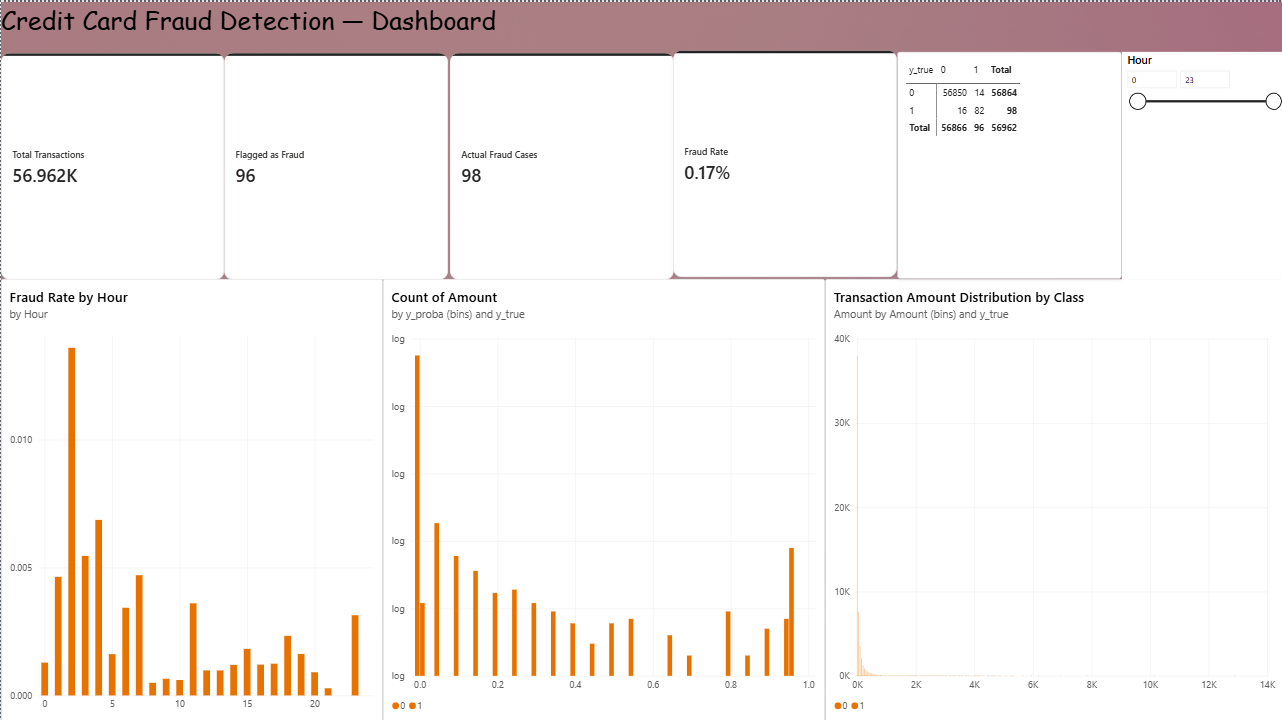

The page's visual inventory and layout, read from the dashboard file:
{"tool":"powerbi","page":{"name":"Page 1","canvas":[1920,1080],"ordinal":0},"visuals":[{"type":"cardVisual","fields":{"Data":["CountNonNull(scored_transactions.Amount)"]},"box":[0,76.6,334.7,339.1],"z":0},{"type":"cardVisual","fields":{"Data":["Sum(scored_transactions.y_pred)"]},"box":[333.8,76.6,335,339],"z":1000},{"type":"cardVisual","fields":{"Data":["Sum(scored_transactions.y_true)"]},"box":[671.4,76.6,335,339],"z":2000},{"type":"cardVisual","fields":{"Data":["scored_transactions.Fraud Rate"]},"box":[1005.2,72.6,335,339],"z":3000},{"type":"clusteredColumnChart","fields":{"Category":["scored_transactions.Hour"],"Y":["scored_transactions.Fraud Rate by Hour"]},"box":[0,414.3,571.3,665.6],"z":4000},{"type":"clusteredColumnChart","title":"Transaction Amount Distribution by Class","fields":{"Category":["scored_transactions.Amount (bins)"],"Series":["scored_transactions.y_true"],"Y":["CountNonNull(scored_transactions.Amount)"]},"box":[1233,414.3,687.2,665.6],"z":5000},{"type":"pivotTable","fields":{"Columns":["scored_transactions.y_pred"],"Rows":["scored_transactions.y_true"],"Values":["CountNonNull(scored_transactions.Amount)"]},"box":[1340.9,74.6,335,339],"z":6000},{"type":"clusteredColumnChart","fields":{"Category":["scored_transactions.y_proba (bins)"],"Series":["scored_transactions.y_true"],"Y":["CountNonNull(scored_transactions.Amount)"]},"box":[571.3,414.3,661.6,665.6],"z":7000},{"type":"slicer","fields":{"Values":["scored_transactions.Hour"]},"box":[1676.7,74.6,243.4,339.7],"z":8000},{"type":"textbox","box":[0,0,769.6,74.6],"z":8001}]}

Visuals, with their boxes in screenshot pixels (x1, y1, x2, y2), scaled from the page's 1920x1080 canvas onto the 1282x720 screenshot:
cardVisual - CountNonNull(scored_transactions.Amount): <box>0,51,223,277</box>
cardVisual - Sum(scored_transactions.y_pred): <box>223,51,447,277</box>
cardVisual - Sum(scored_transactions.y_true): <box>448,51,672,277</box>
cardVisual - scored_transactions.Fraud Rate: <box>671,48,895,274</box>
clusteredColumnChart - scored_transactions.Hour x scored_transactions.Fraud Rate by Hour: <box>0,276,381,719</box>
"Transaction Amount Distribution by Class" clusteredColumnChart: <box>823,276,1281,719</box>
pivotTable - scored_transactions.y_pred x scored_transactions.y_true: <box>895,50,1119,276</box>
clusteredColumnChart - scored_transactions.y_proba (bins) x scored_transactions.y_true: <box>381,276,823,719</box>
slicer - scored_transactions.Hour: <box>1120,50,1281,276</box>
textbox: <box>0,0,514,50</box>
